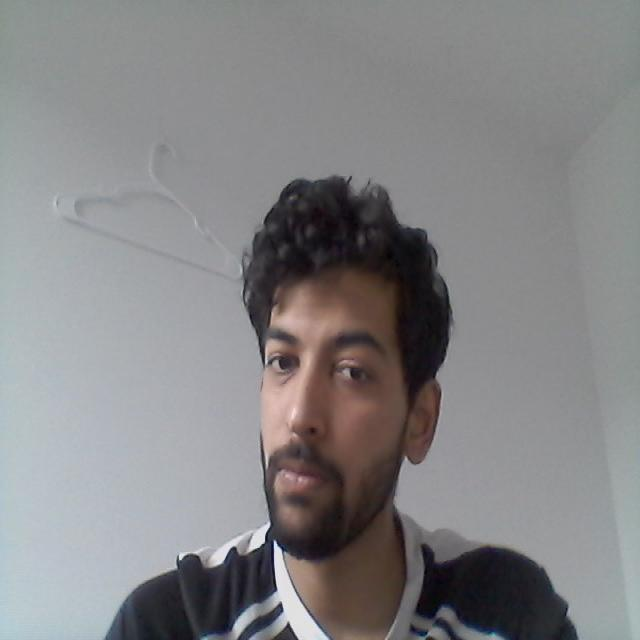nocap: (236, 168, 455, 395)
